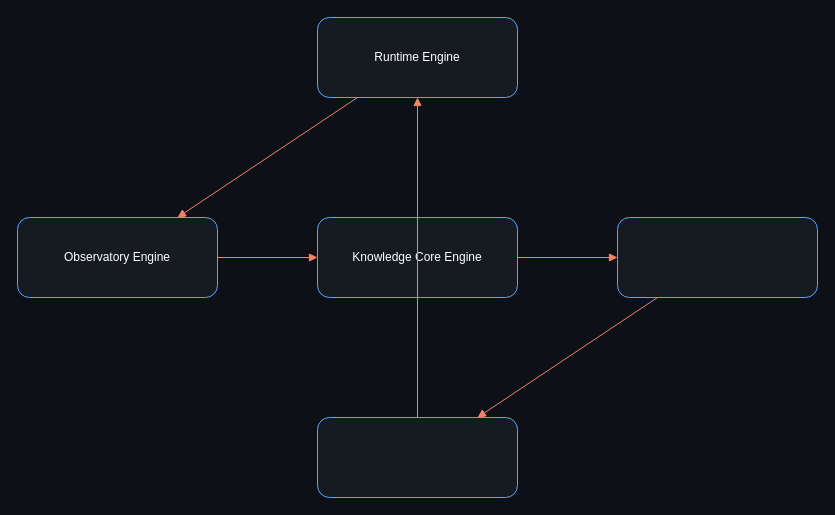
Image size: 835x515. Some labels were removed from this diagram. Here are the shapes that lost their labels. From the top down, the centre of each, then its label:
At point 717,257: "Storage Engine".
At point 417,457: "Audit Engine".
